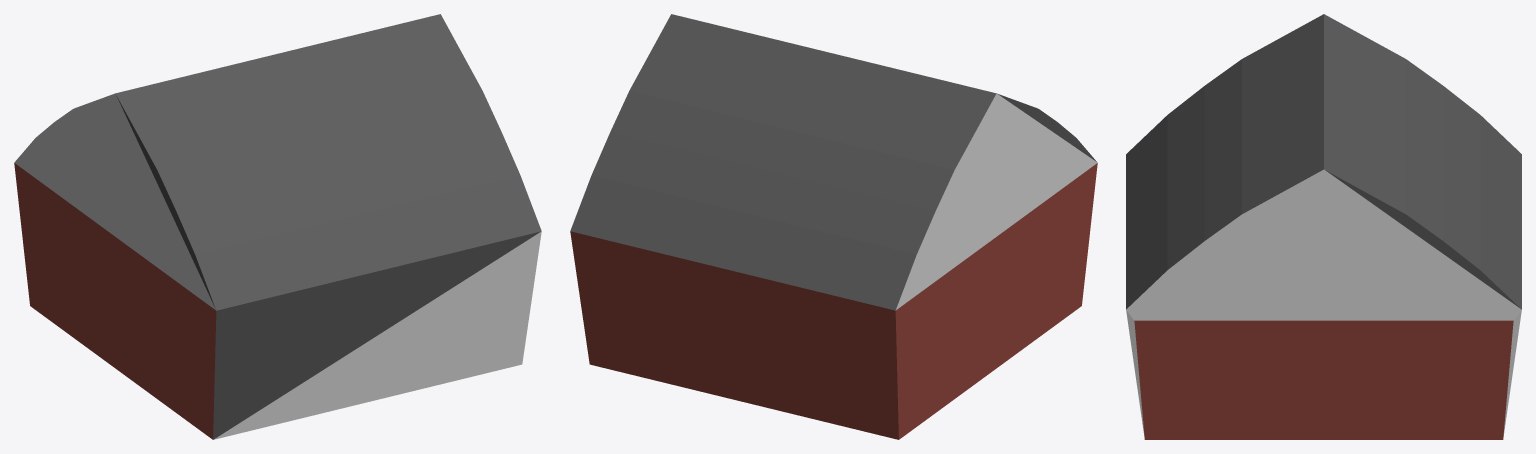
Rendered from OpenBarn.lod4.glb.
3 views of the same model, side by side, from view 1: azimuth 30°, elevation 25°; view 2: azimuth 150°, elevation 25°; view 3: azimuth 270°, elevation 25° (orthographic). The views are drawn at different scales.
Parts seen in each view (by area): view 1: OpenBarn; view 2: OpenBarn; view 3: OpenBarn.
Part boxes in pixels (x1,y1,x2,y2): OpenBarn: [14, 14, 541, 439]; OpenBarn: [570, 14, 1097, 439]; OpenBarn: [1126, 14, 1521, 439].
Size of the model in its own units: 5.75 by 4.74 by 6.18.
